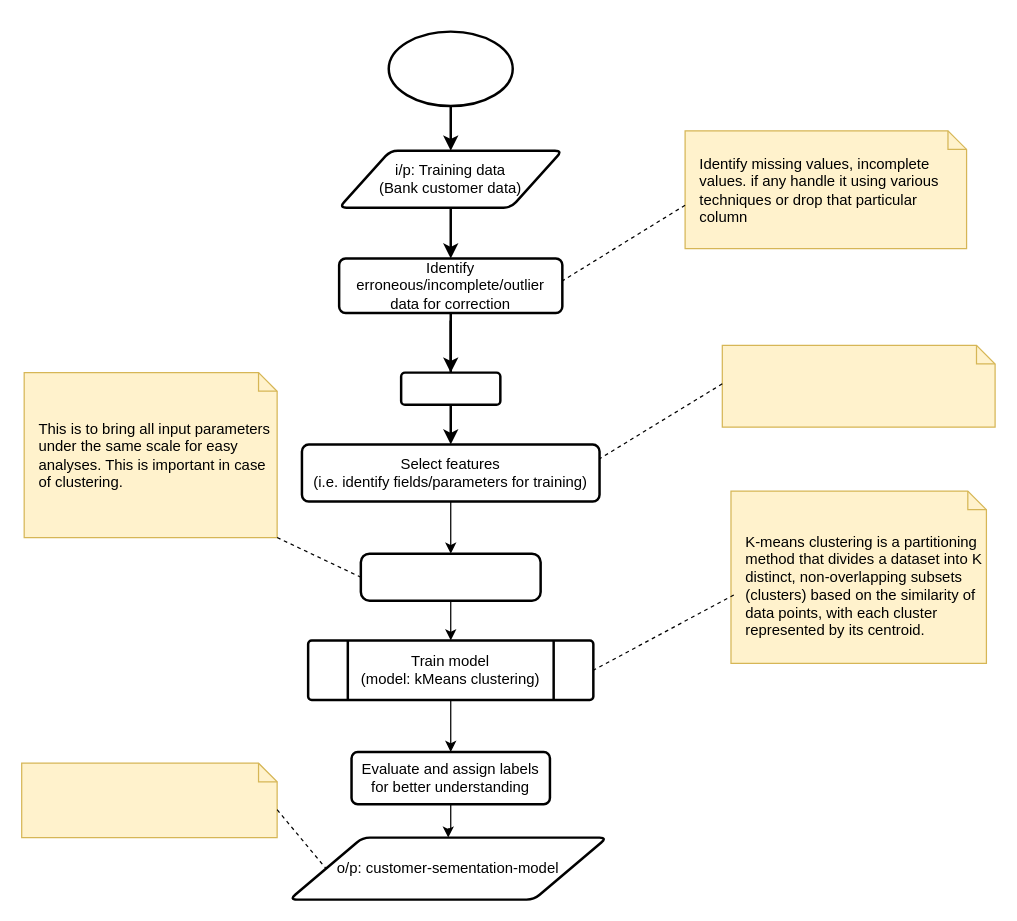
Image size: 1017x921. Some labels were removed from this diagram. Here are the shapes that lost their labels. From the top down, the centre of each, then its label:
At point (450, 68): "Start".
At point (450, 388): "Clean data".
At point (858, 385): "In wms customer segmentation selected feature are (sip_amount, networth, age)".
At point (450, 576): "Scale selected features (optional step)".
At point (148, 800): "This is trained model stored in binary format".
